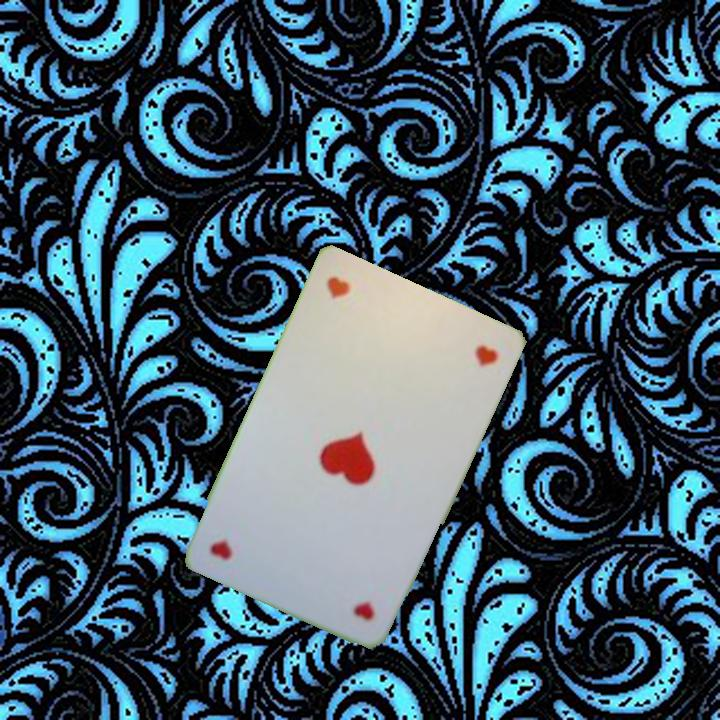h_a.png: (285, 517, 410, 635), (297, 263, 422, 381)
